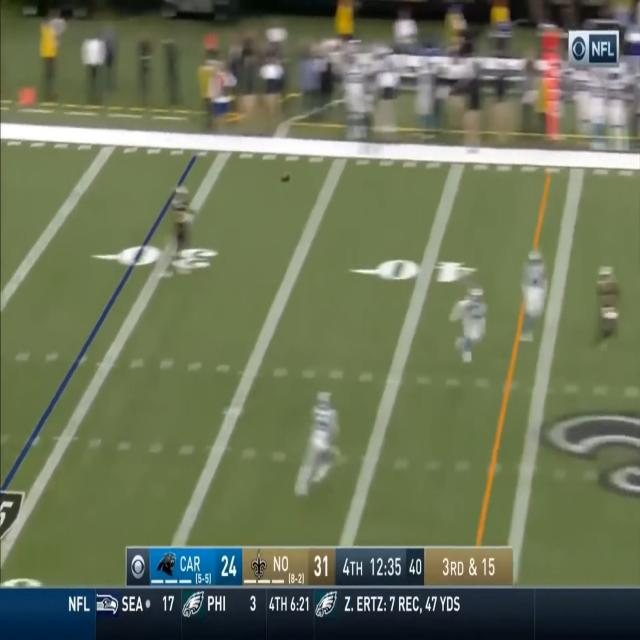football: (280, 171, 290, 186)
players: (514, 238, 550, 344), (451, 286, 490, 367), (304, 388, 341, 472), (168, 173, 192, 268), (598, 262, 621, 354)
